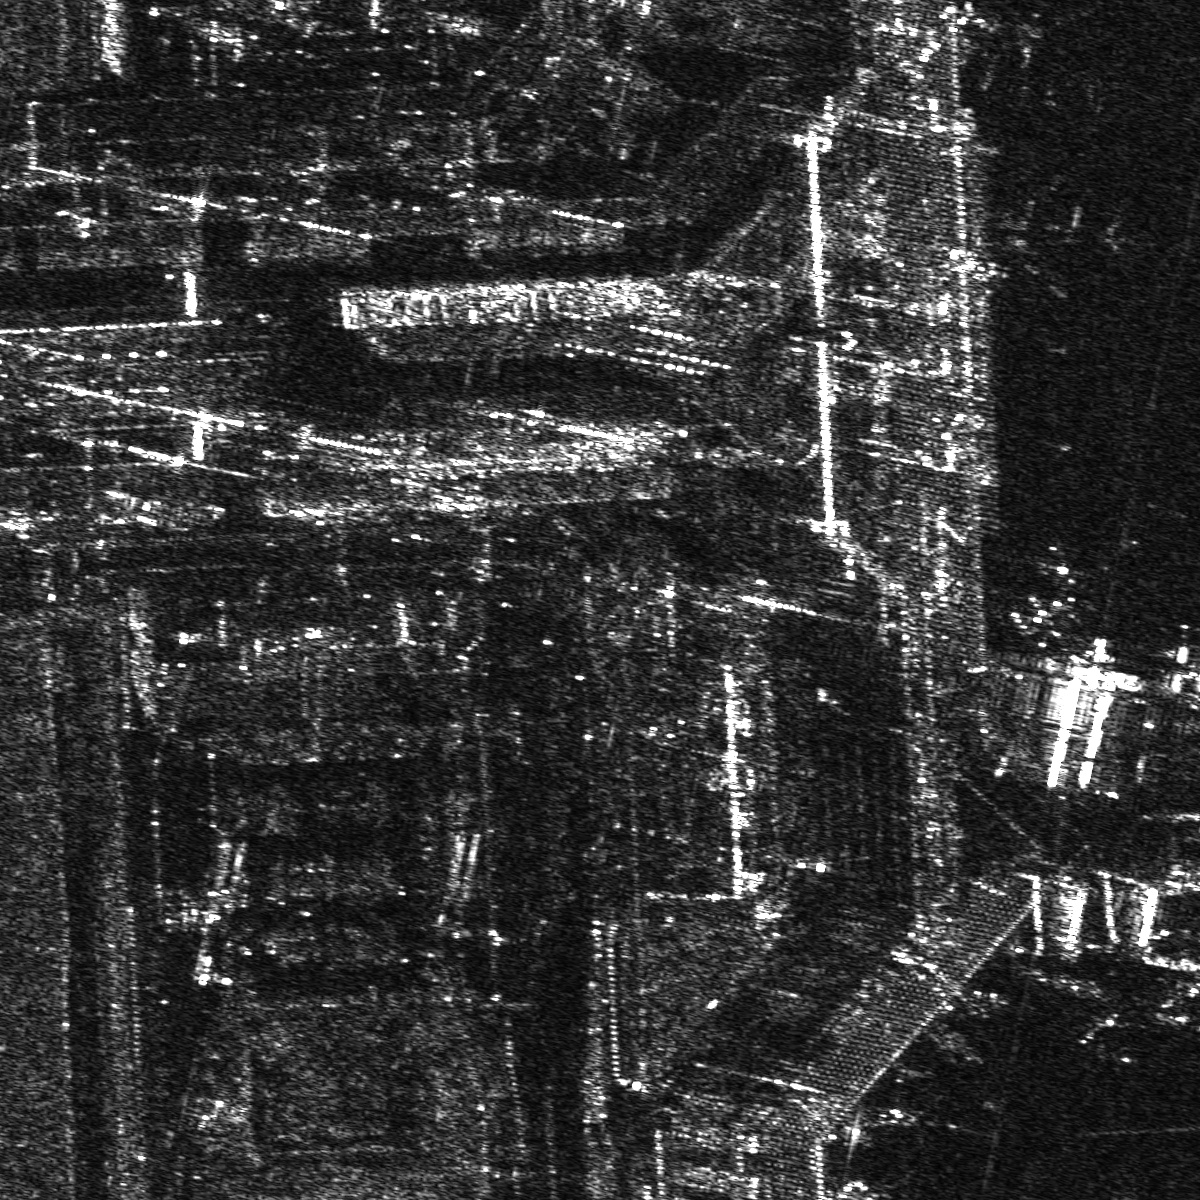A220: (1157, 962, 1199, 1034)
A320/321: (987, 174, 1125, 305)
Boeing737: (1079, 991, 1145, 1068)
